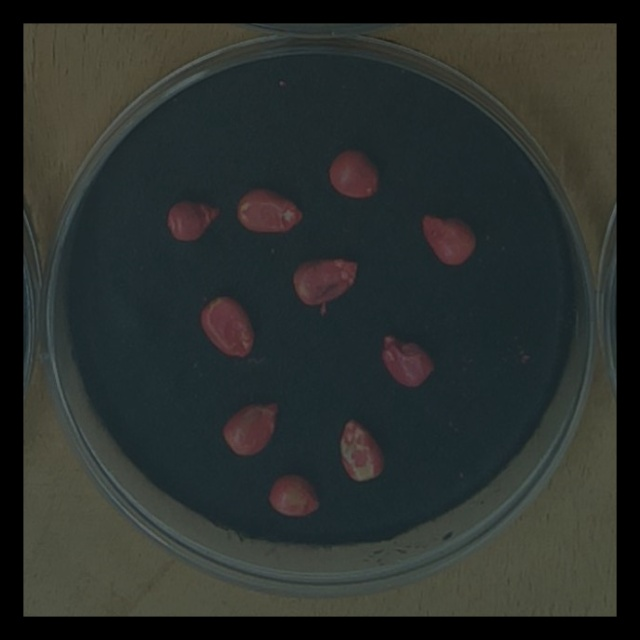Zea mays: (194, 287, 260, 362), (287, 250, 365, 312), (231, 180, 309, 241), (373, 329, 440, 395), (218, 395, 285, 461), (417, 206, 481, 271), (334, 413, 390, 487), (322, 142, 386, 203), (160, 193, 226, 247), (263, 468, 324, 522)
